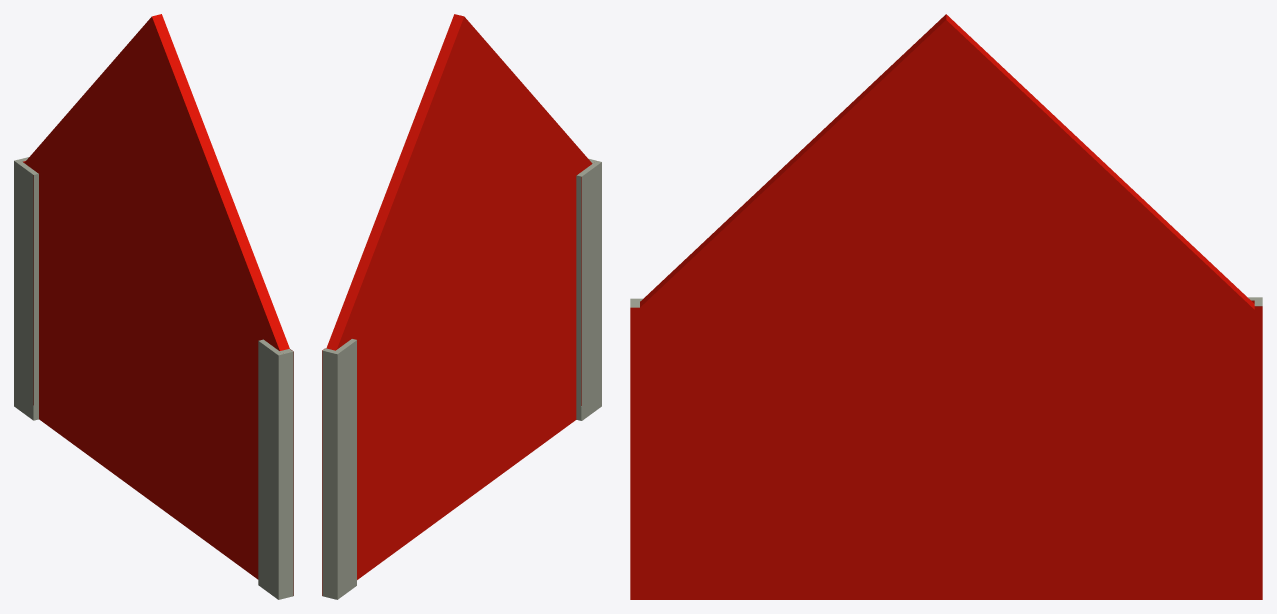
Rendered from parede_tras.gltf.
The picture shows the model from 3 angles, left to right: view 1: azimuth 30°, elevation 25°; view 2: azimuth 150°, elevation 25°; view 3: azimuth 270°, elevation 25°; orthographic projection. The views are drawn at different scales.
Parts seen in each view (by area): view 1: Parede de tras; view 2: Parede de tras; view 3: Parede de tras.
Boxes of the visible parts, x1,y1,x2,y2 form: Parede de tras: [14, 14, 293, 599]; Parede de tras: [322, 14, 601, 599]; Parede de tras: [630, 14, 1262, 599].
Bounding box in the file's own units: 0.0848 × 2.54 × 2.51.
